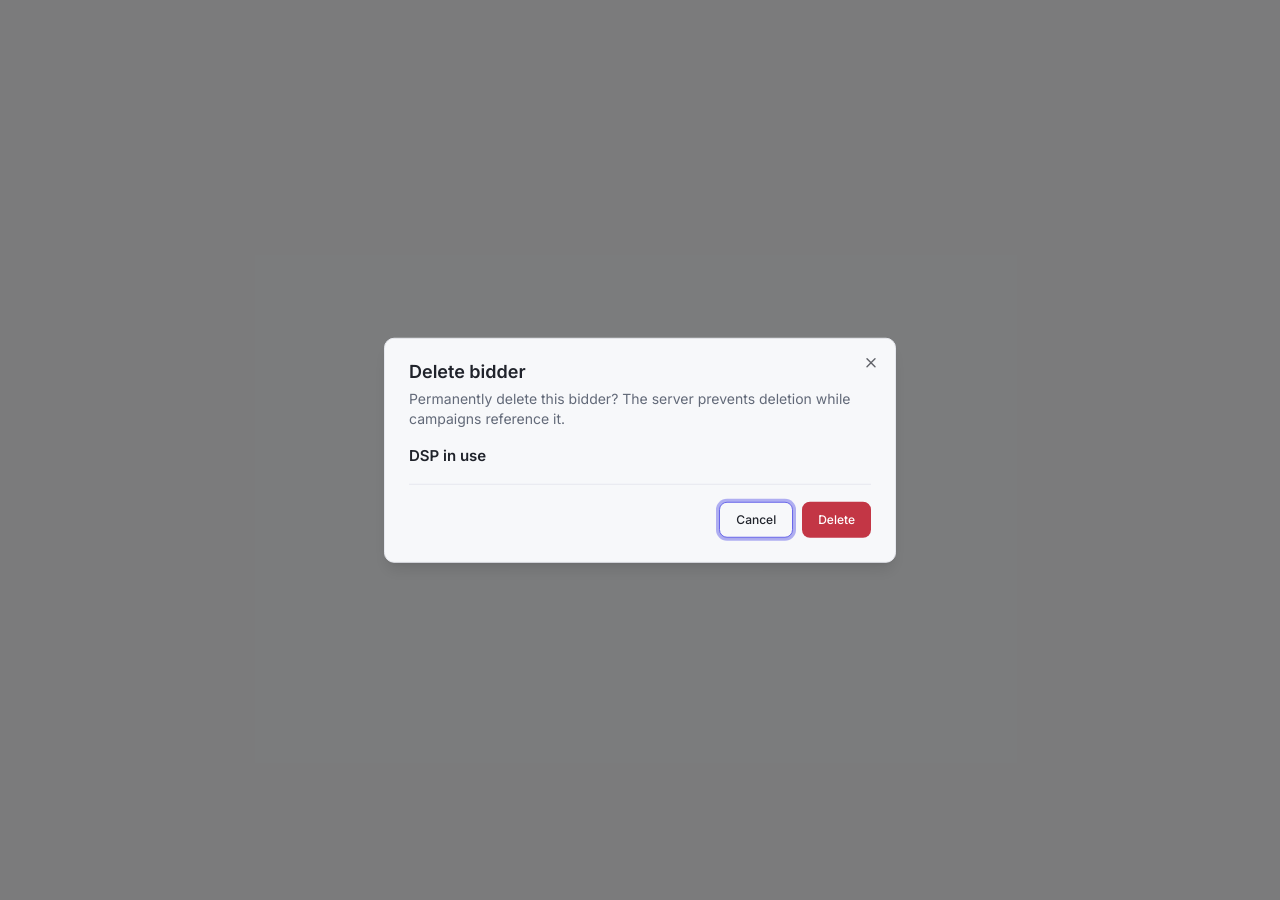
Test: keeps a failed bidder deletion open with the 409 message
This screenshot has width=1280, height=900.
Click the button "Delete".
click(837, 519)  # box [802,501,871,537]
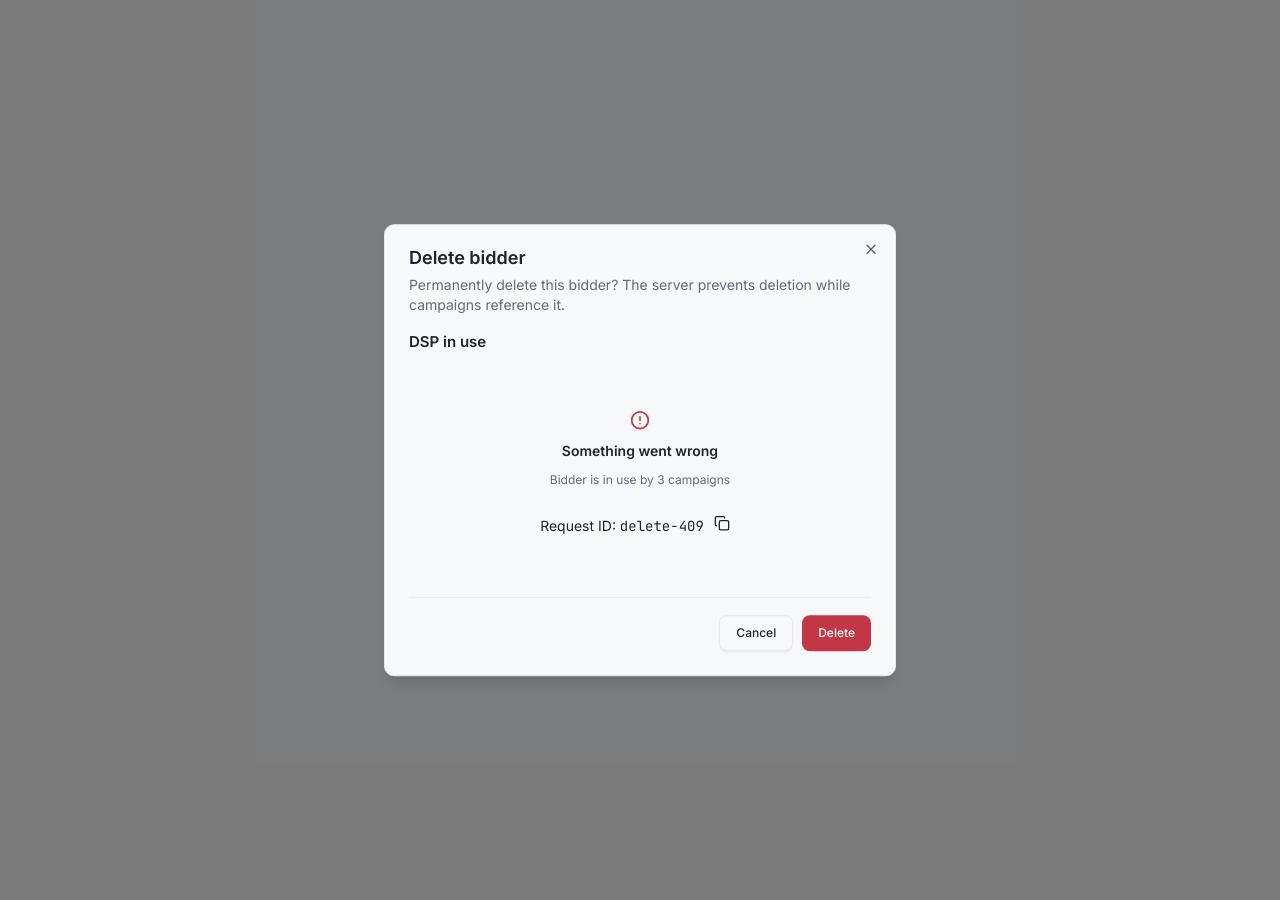
Expected: the message shows "Bidder is in use by 3 campaigns", [550,472,730,487]
Expected: the message shows "delete-409", [620,517,704,535]
